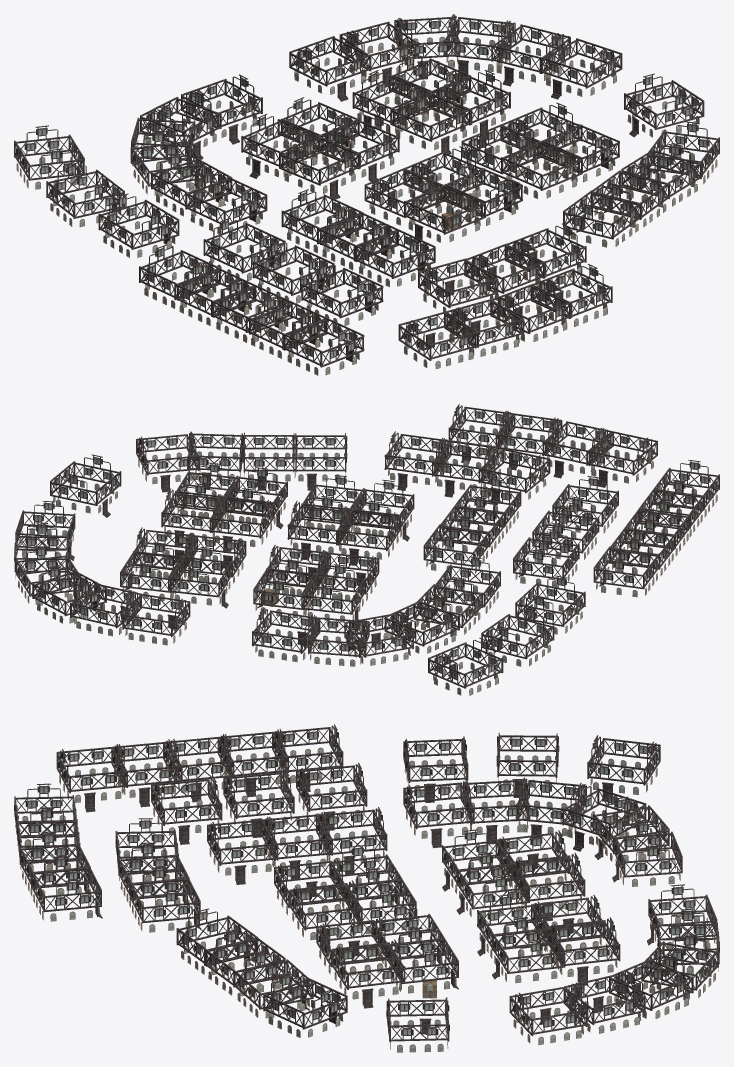
The model's file is old_town.glb.
3 views of the same model, one above another, from view 1: azimuth 30°, elevation 25°; view 2: azimuth 150°, elevation 25°; view 3: azimuth 270°, elevation 25° (orthographic). The views are drawn at different scales.
Size of what is drawn, in the model's own units: 99.32 by 15.34 by 99.03.
Materials: 5 (5 with a texture image).
